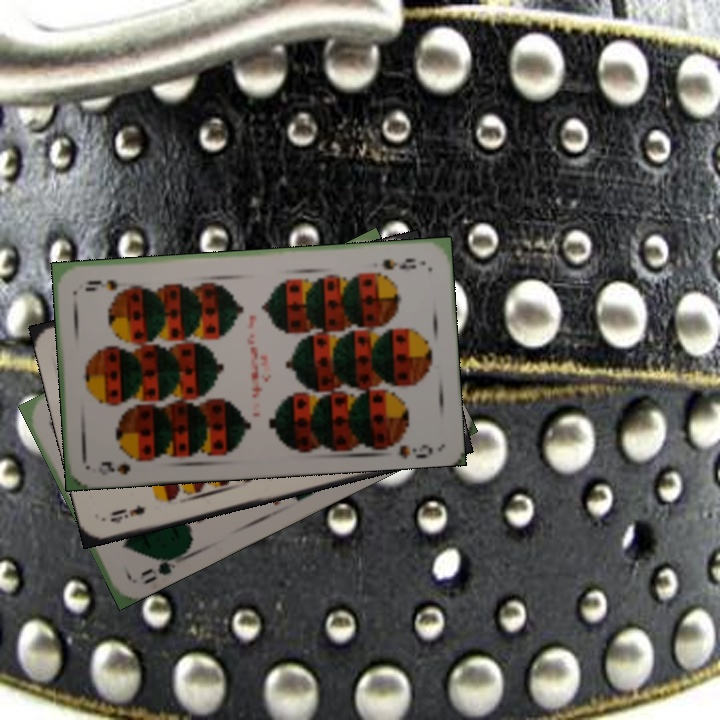E9: (106, 500, 148, 526)
GO: (135, 550, 186, 588)
S9: (96, 450, 148, 477), (378, 253, 419, 273)
